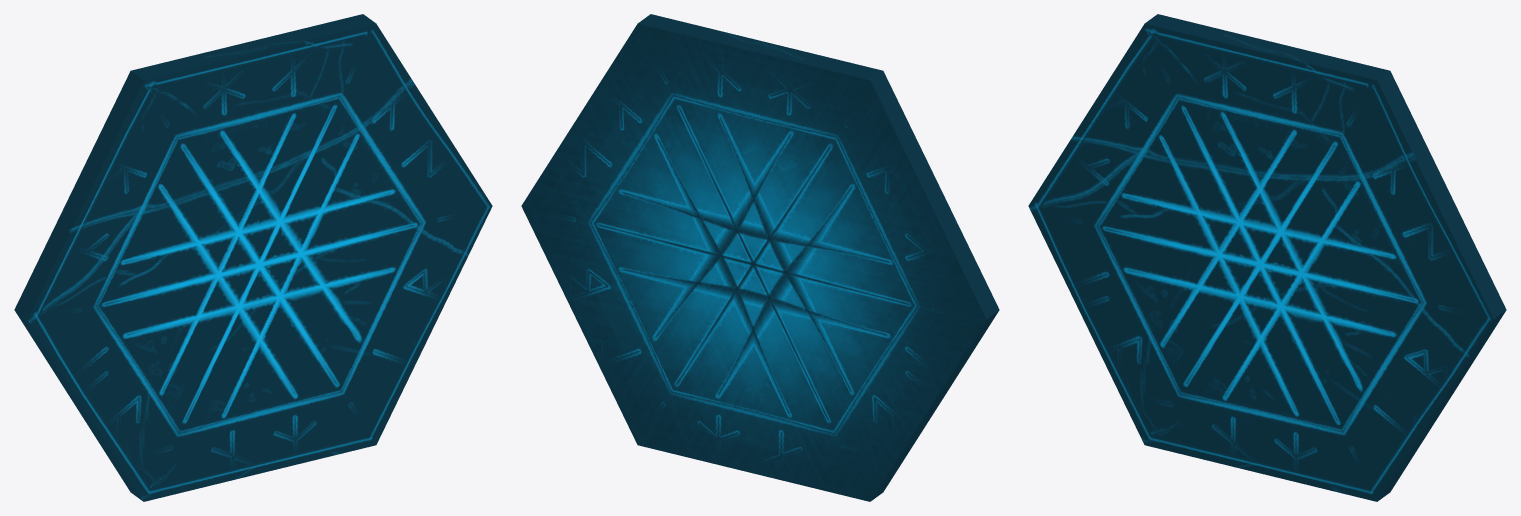
File: hexagono3d3.glb
The picture shows the model from 3 angles, left to right: view 1: azimuth 30°, elevation 25°; view 2: azimuth 150°, elevation 25°; view 3: azimuth 330°, elevation 25°; orthographic projection.
Parts seen in each view (by area): view 1: Object_2; view 2: Object_2; view 3: Object_2.
Boxes of the visible parts, left/top/right/bottom form: Object_2: left=14, top=14, right=492, bottom=501; Object_2: left=521, top=14, right=999, bottom=501; Object_2: left=1028, top=14, right=1506, bottom=501.
Size of the model in its own units: 2 by 1.73 by 0.098.
Materials: 1 (1 with a texture image).
